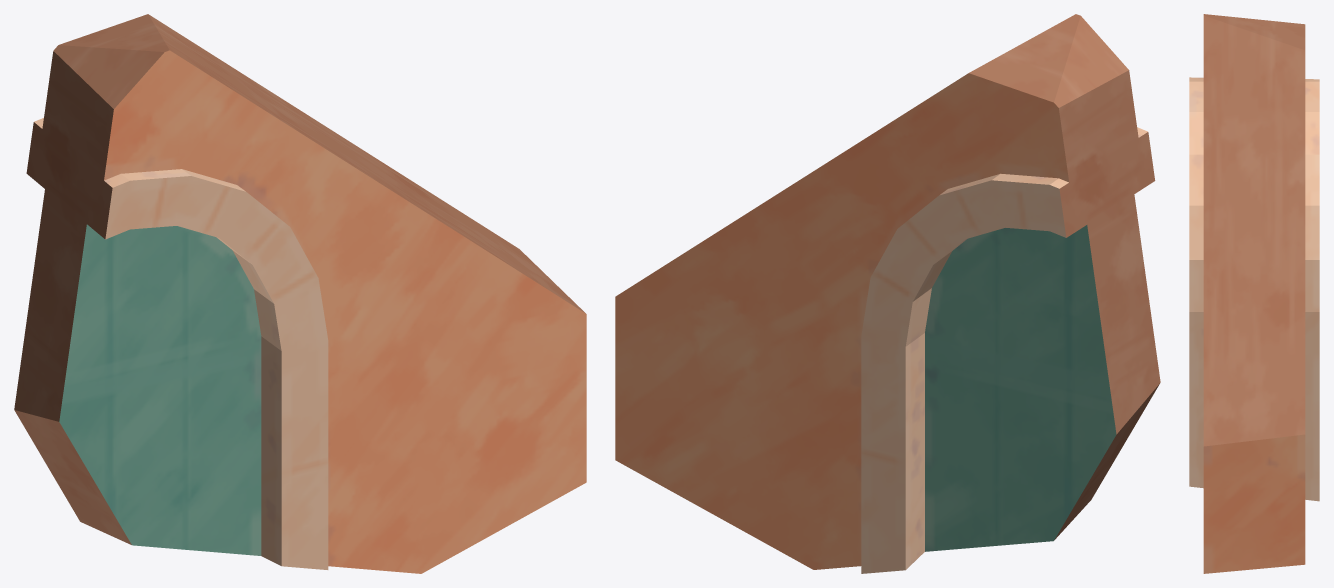
File: wall2_shutter_s03.fbx
3 views of the same model, side by side, from view 1: azimuth 30°, elevation 25°; view 2: azimuth 150°, elevation 25°; view 3: azimuth 270°, elevation 25° (orthographic). The views are drawn at different scales.
Visible parts, largest first — view 1: wall2_shutter_s03; view 2: wall2_shutter_s03; view 3: wall2_shutter_s03.
Part boxes in pixels (x1,y1,x2,y2): wall2_shutter_s03: [14, 14, 586, 573]; wall2_shutter_s03: [615, 14, 1160, 573]; wall2_shutter_s03: [1189, 14, 1319, 573].
Bounding box in the file's own units: 4.43 × 4.81 × 1.28.
